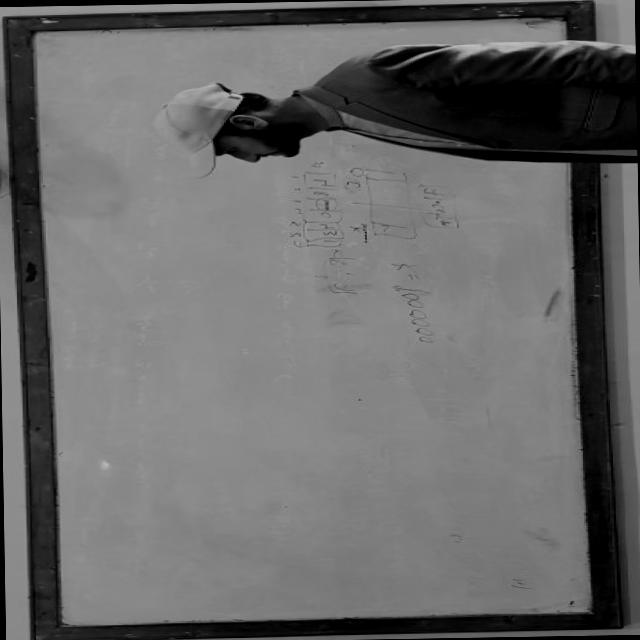Instructor: (152, 47, 632, 171)
White-board: (17, 7, 612, 636)
